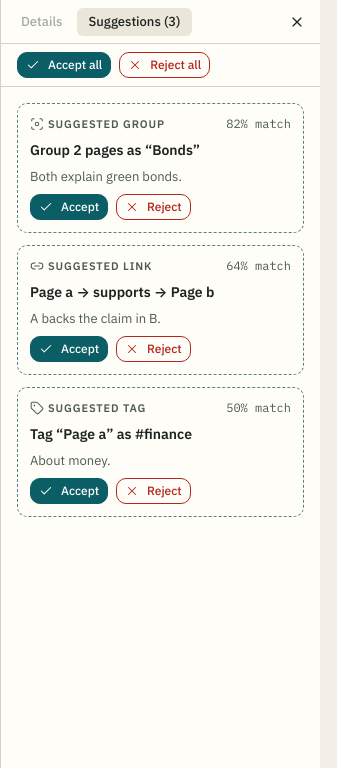
Test: SuggestionsPanel › Accept all applies each suggestion as its own undo step
The image size is (337, 768).
Click the button "Accept all" at (64, 65), box [17,52,111,78]
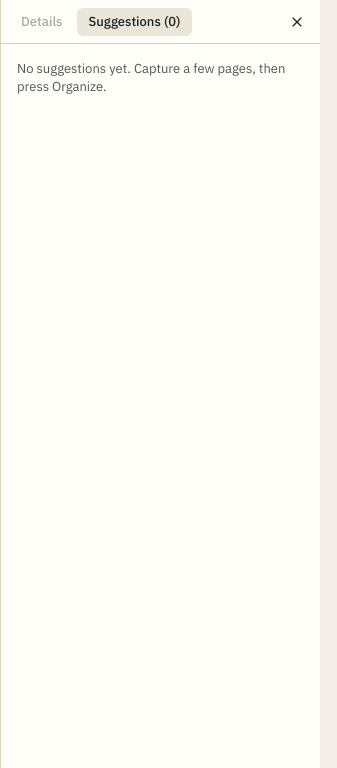
Expected: the text with test id "suggestions-empty" reads "No suggestions yet. Capture a few pages, then press Organize.", [17,60,285,95]
